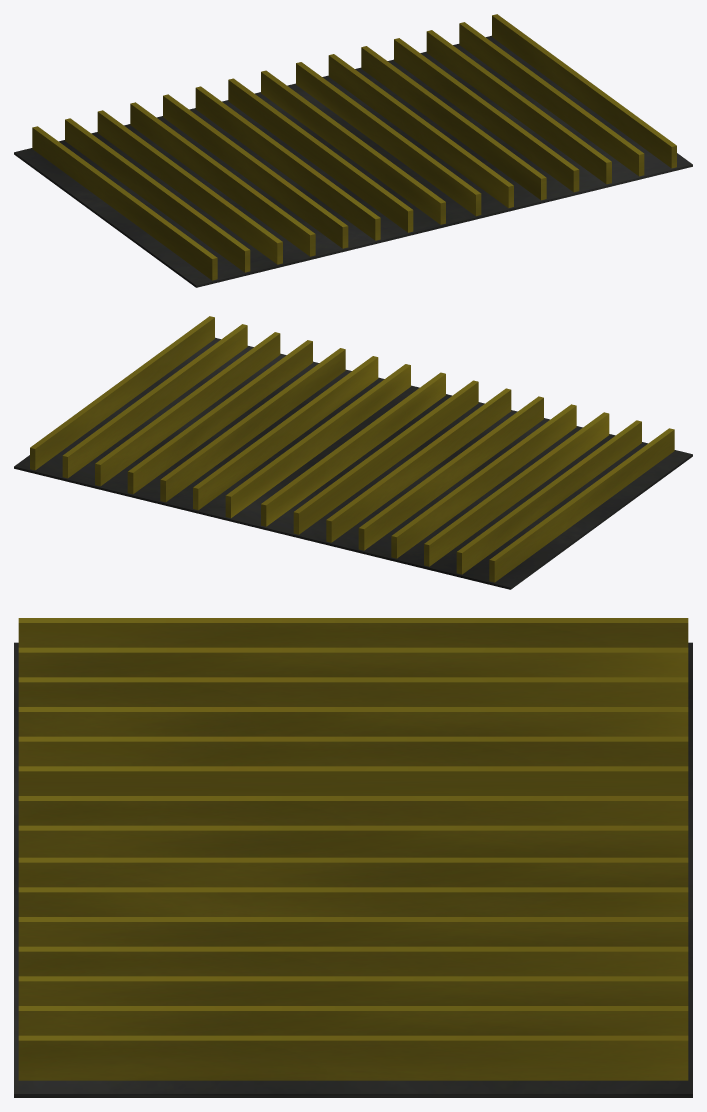
3 views of the same model, one above another, from view 1: azimuth 30°, elevation 25°; view 2: azimuth 150°, elevation 25°; view 3: azimuth 270°, elevation 25° (orthographic). The views are drawn at different scales.
Parts seen in each view (by area): view 1: Motherboard component 1.001; view 2: Motherboard component 1.001; view 3: Motherboard component 1.001.
Part boxes in pixels (bbox=[...]): Motherboard component 1.001: bbox=[14, 14, 692, 287]; Motherboard component 1.001: bbox=[14, 316, 692, 589]; Motherboard component 1.001: bbox=[14, 618, 692, 1097].
Bounding box in the file's own units: 11.25 × 0.8117 × 7.15.
